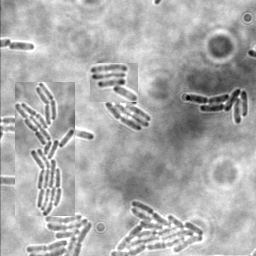Dividing: (8, 41, 35, 52)
Microcolony: (15, 82, 75, 216), (109, 200, 205, 255), (25, 212, 94, 255), (184, 89, 248, 126), (90, 63, 138, 102), (103, 96, 150, 132)
